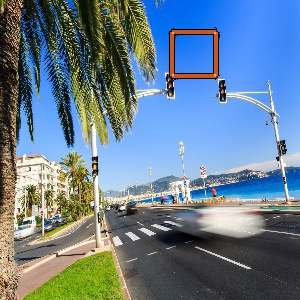square: (167, 27, 221, 81)
